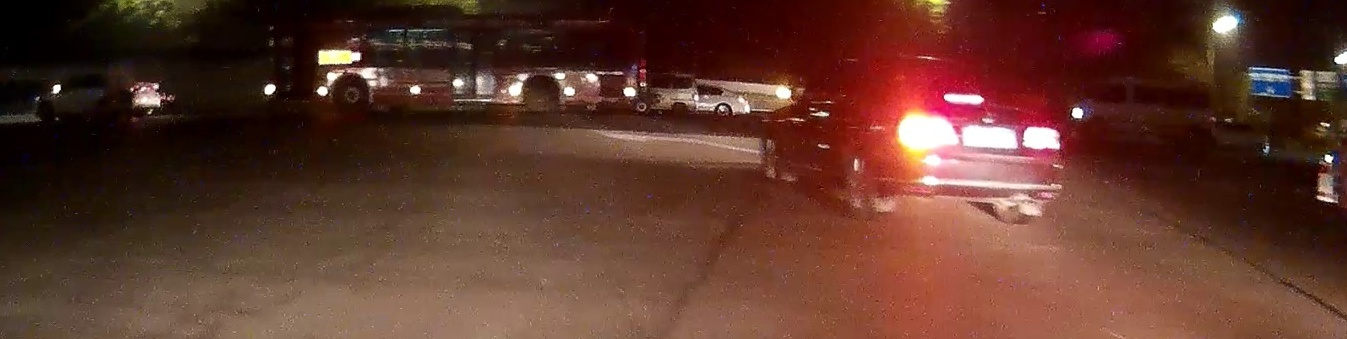L_light: (894, 109, 961, 148)
R_light: (1021, 123, 1062, 153)
T_light: (942, 91, 985, 106)
night-left: (879, 55, 1064, 225)
